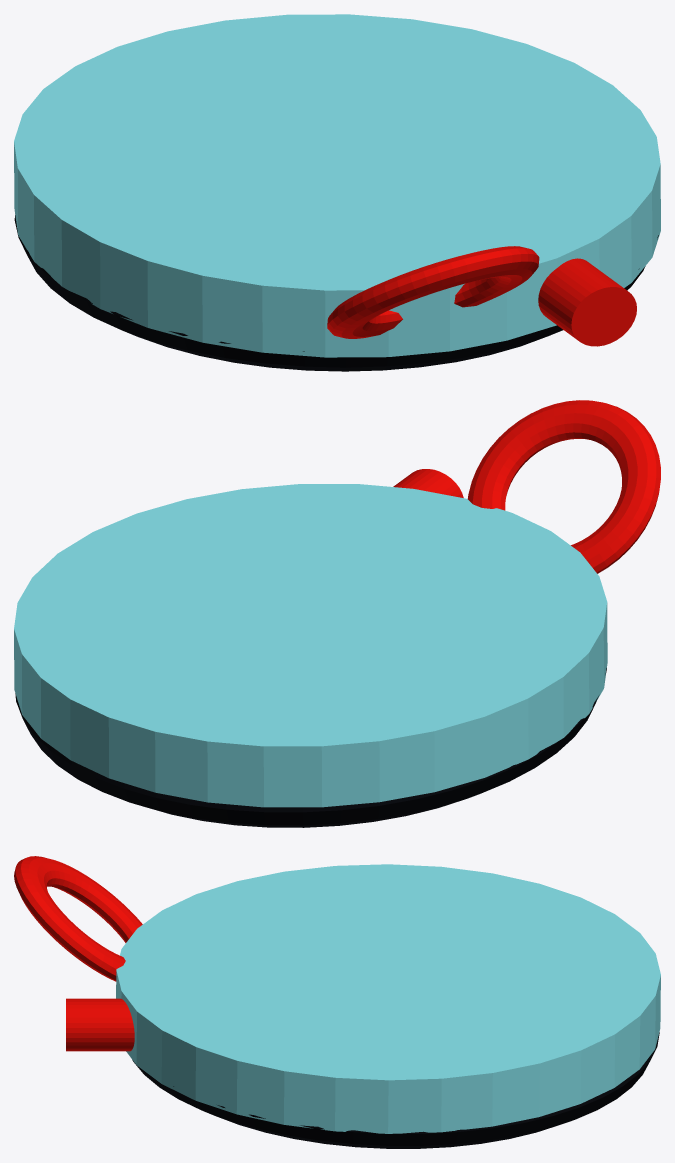
Rendered from freezeClock.fbx.
3 views of the same model, one above another, from view 1: azimuth 30°, elevation 25°; view 2: azimuth 150°, elevation 25°; view 3: azimuth 270°, elevation 25° (orthographic). The views are drawn at different scales.
Parts seen in each view (by area): view 1: FreezeClock; view 2: FreezeClock; view 3: FreezeClock.
Boxes of the visible parts, bbox=[...] form: FreezeClock: bbox=[14, 14, 660, 371]; FreezeClock: bbox=[14, 400, 660, 827]; FreezeClock: bbox=[14, 856, 660, 1148].
Size of the model in its own units: 2.93 by 1 by 3.7.
